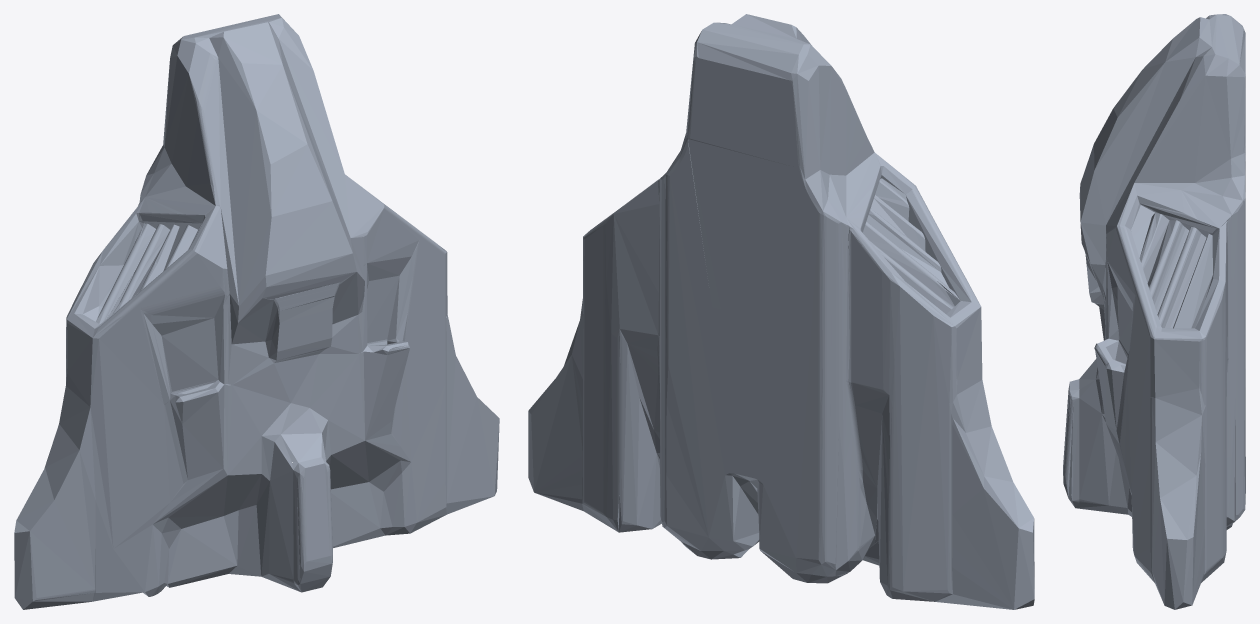
The model's file is ship.gltf.
The picture shows the model from 3 angles, left to right: view 1: azimuth 30°, elevation 25°; view 2: azimuth 150°, elevation 25°; view 3: azimuth 270°, elevation 25°; orthographic projection. The views are drawn at different scales.
Parts seen in each view (by area): view 1: Spaceship; view 2: Spaceship; view 3: Spaceship.
Part boxes in pixels (x1,y1,x2,y2): Spaceship: [14, 14, 499, 609]; Spaceship: [528, 14, 1034, 609]; Spaceship: [1063, 14, 1245, 609].
Size of the model in its own units: 0.9808 by 1 by 0.347.
